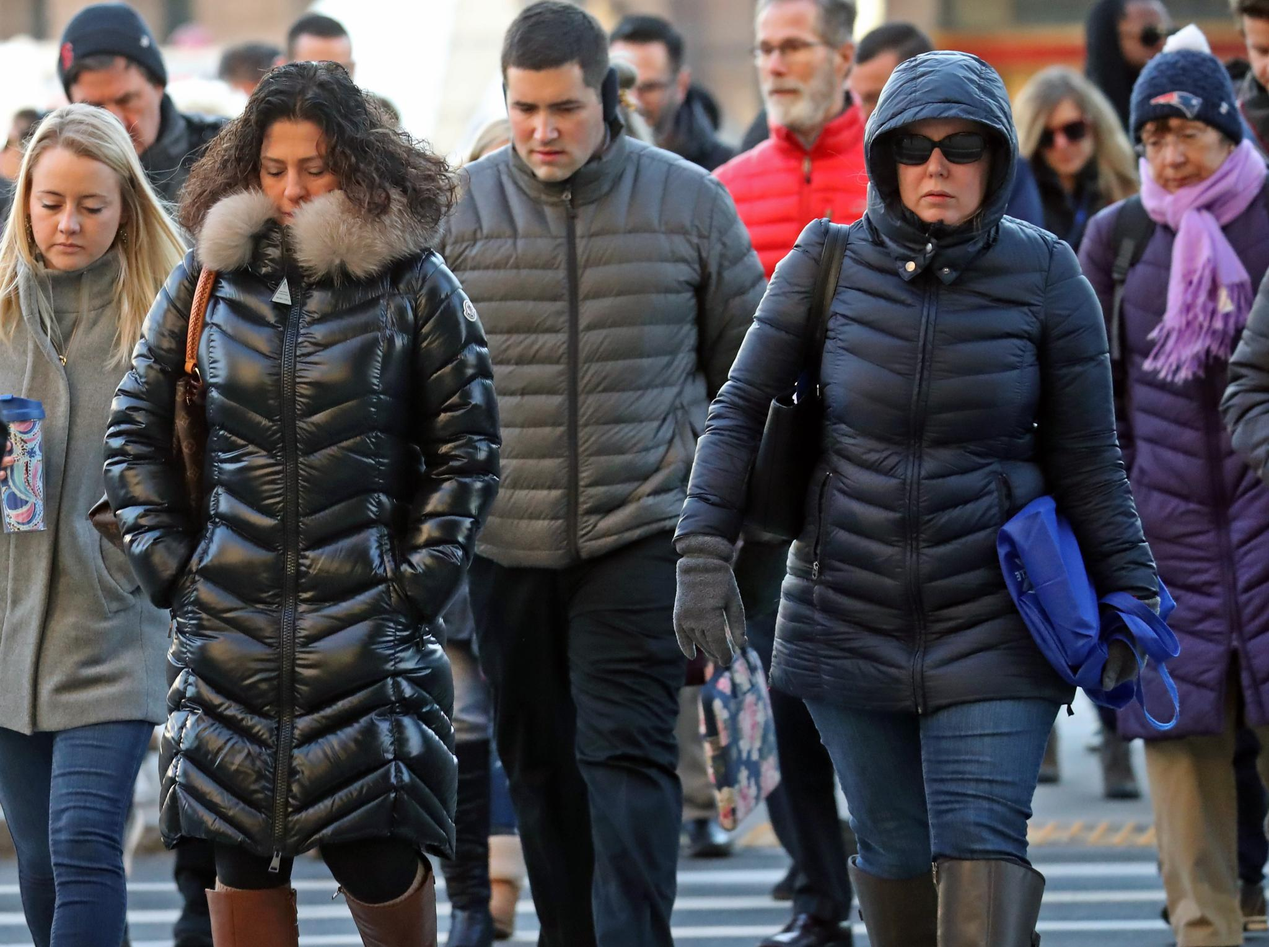coat: (673, 47, 1166, 709), (103, 178, 503, 856), (425, 134, 778, 571), (1071, 178, 1269, 738), (699, 90, 897, 283)
jacket: (0, 248, 212, 736)
trousers: (463, 550, 686, 947), (794, 687, 1070, 903), (0, 715, 159, 947), (1146, 719, 1269, 947)
